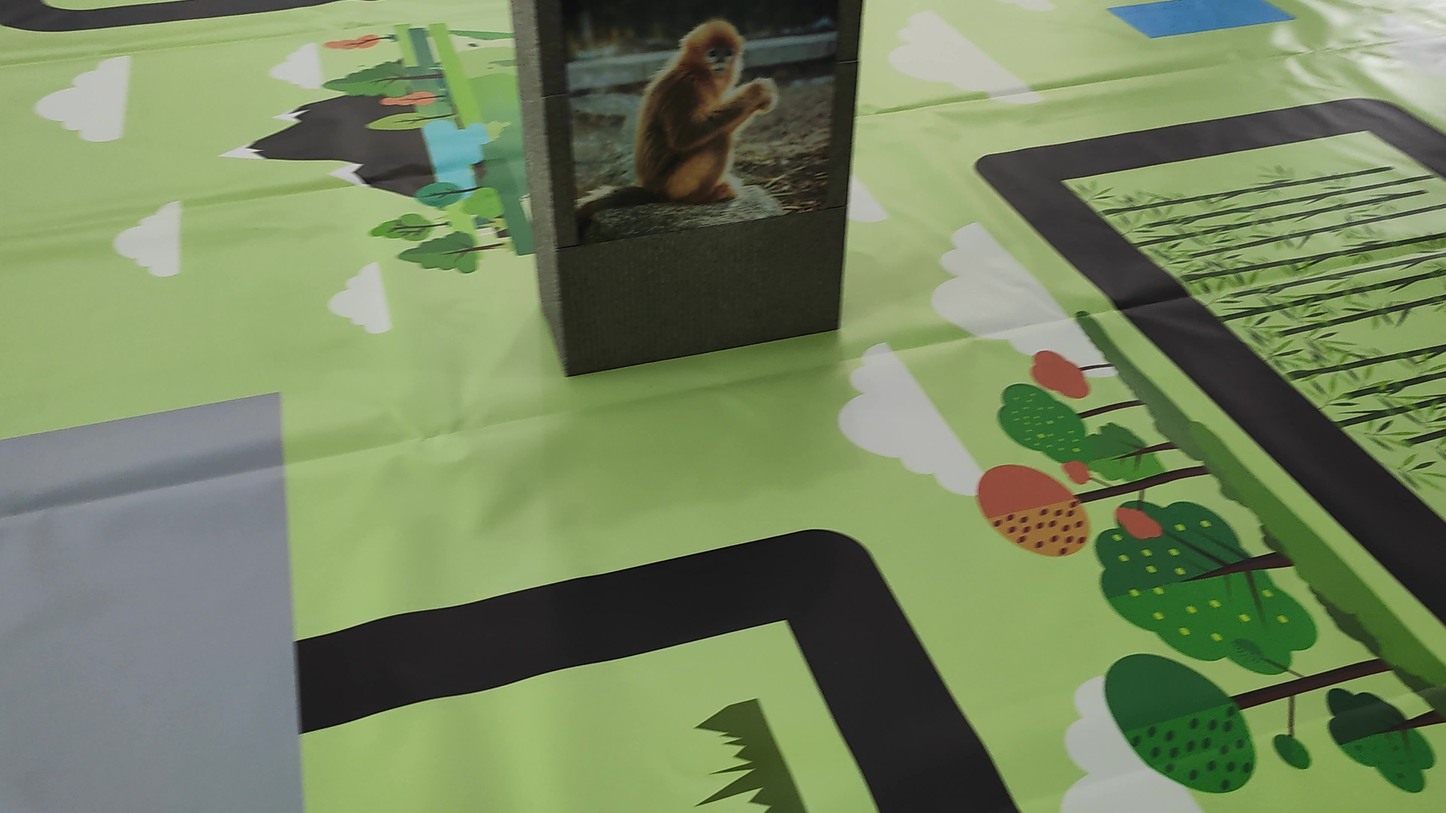monkey: (609, 5, 822, 219)
